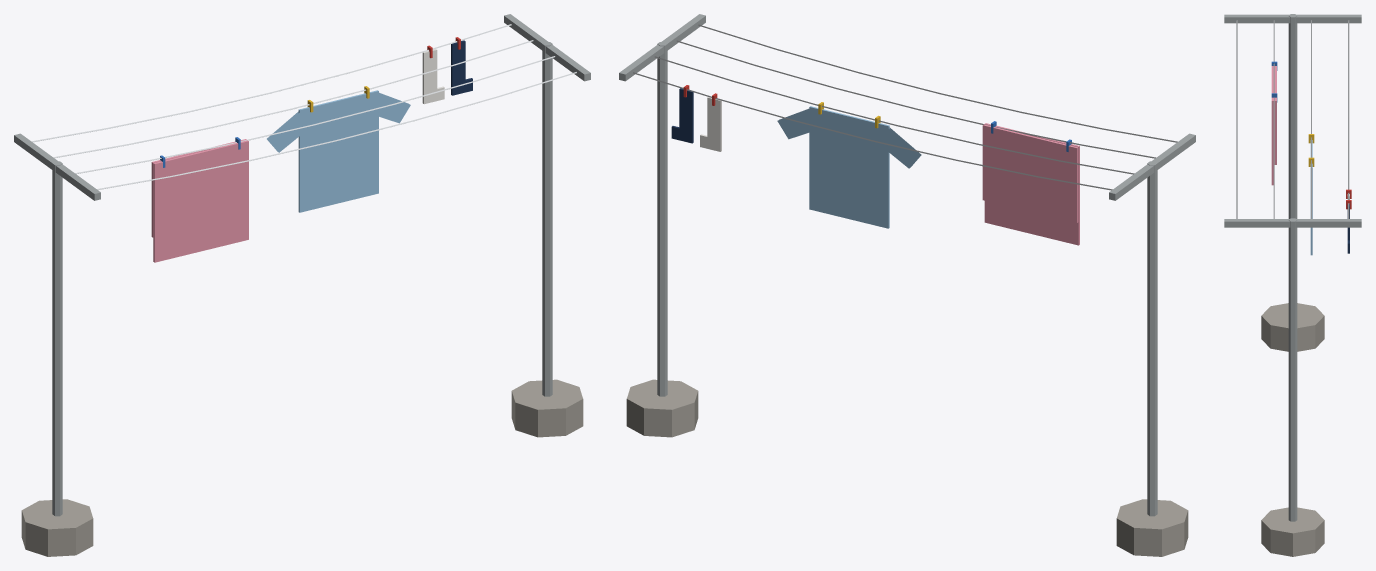
File: SC_Bld_Villa_Roof_Clothesline.gltf
The picture shows the model from 3 angles, left to right: view 1: azimuth 30°, elevation 25°; view 2: azimuth 150°, elevation 25°; view 3: azimuth 270°, elevation 25°; orthographic projection. The views are drawn at different scales.
Visible parts, largest first — view 1: SC_Bld_Villa_Roof_Clothesline; view 2: SC_Bld_Villa_Roof_Clothesline; view 3: SC_Bld_Villa_Roof_Clothesline.
Boxes of the visible parts, bbox=[...] form: SC_Bld_Villa_Roof_Clothesline: bbox=[14, 14, 590, 556]; SC_Bld_Villa_Roof_Clothesline: bbox=[619, 14, 1195, 556]; SC_Bld_Villa_Roof_Clothesline: bbox=[1224, 14, 1361, 556].
Bounding box in the file's own units: 2.94 × 1.92 × 0.74.
Materials: 1 (1 with a texture image).
